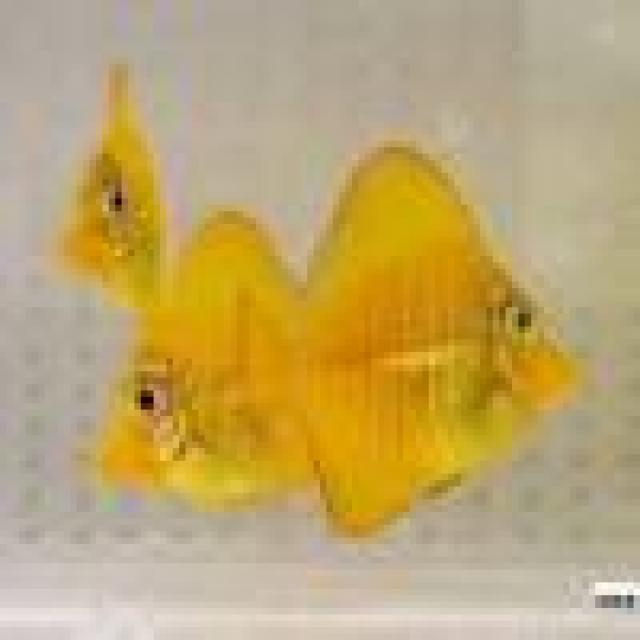YellowTang: (278, 106, 601, 558), (76, 203, 336, 511), (44, 36, 170, 354)
